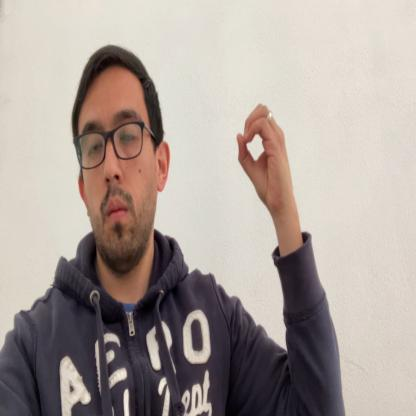O: (237, 101, 292, 218)
